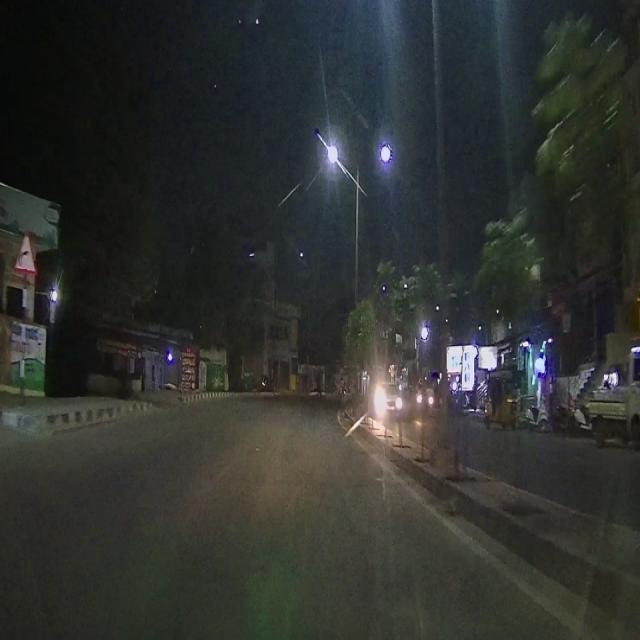right-hand-curve: (15, 236, 32, 270)
